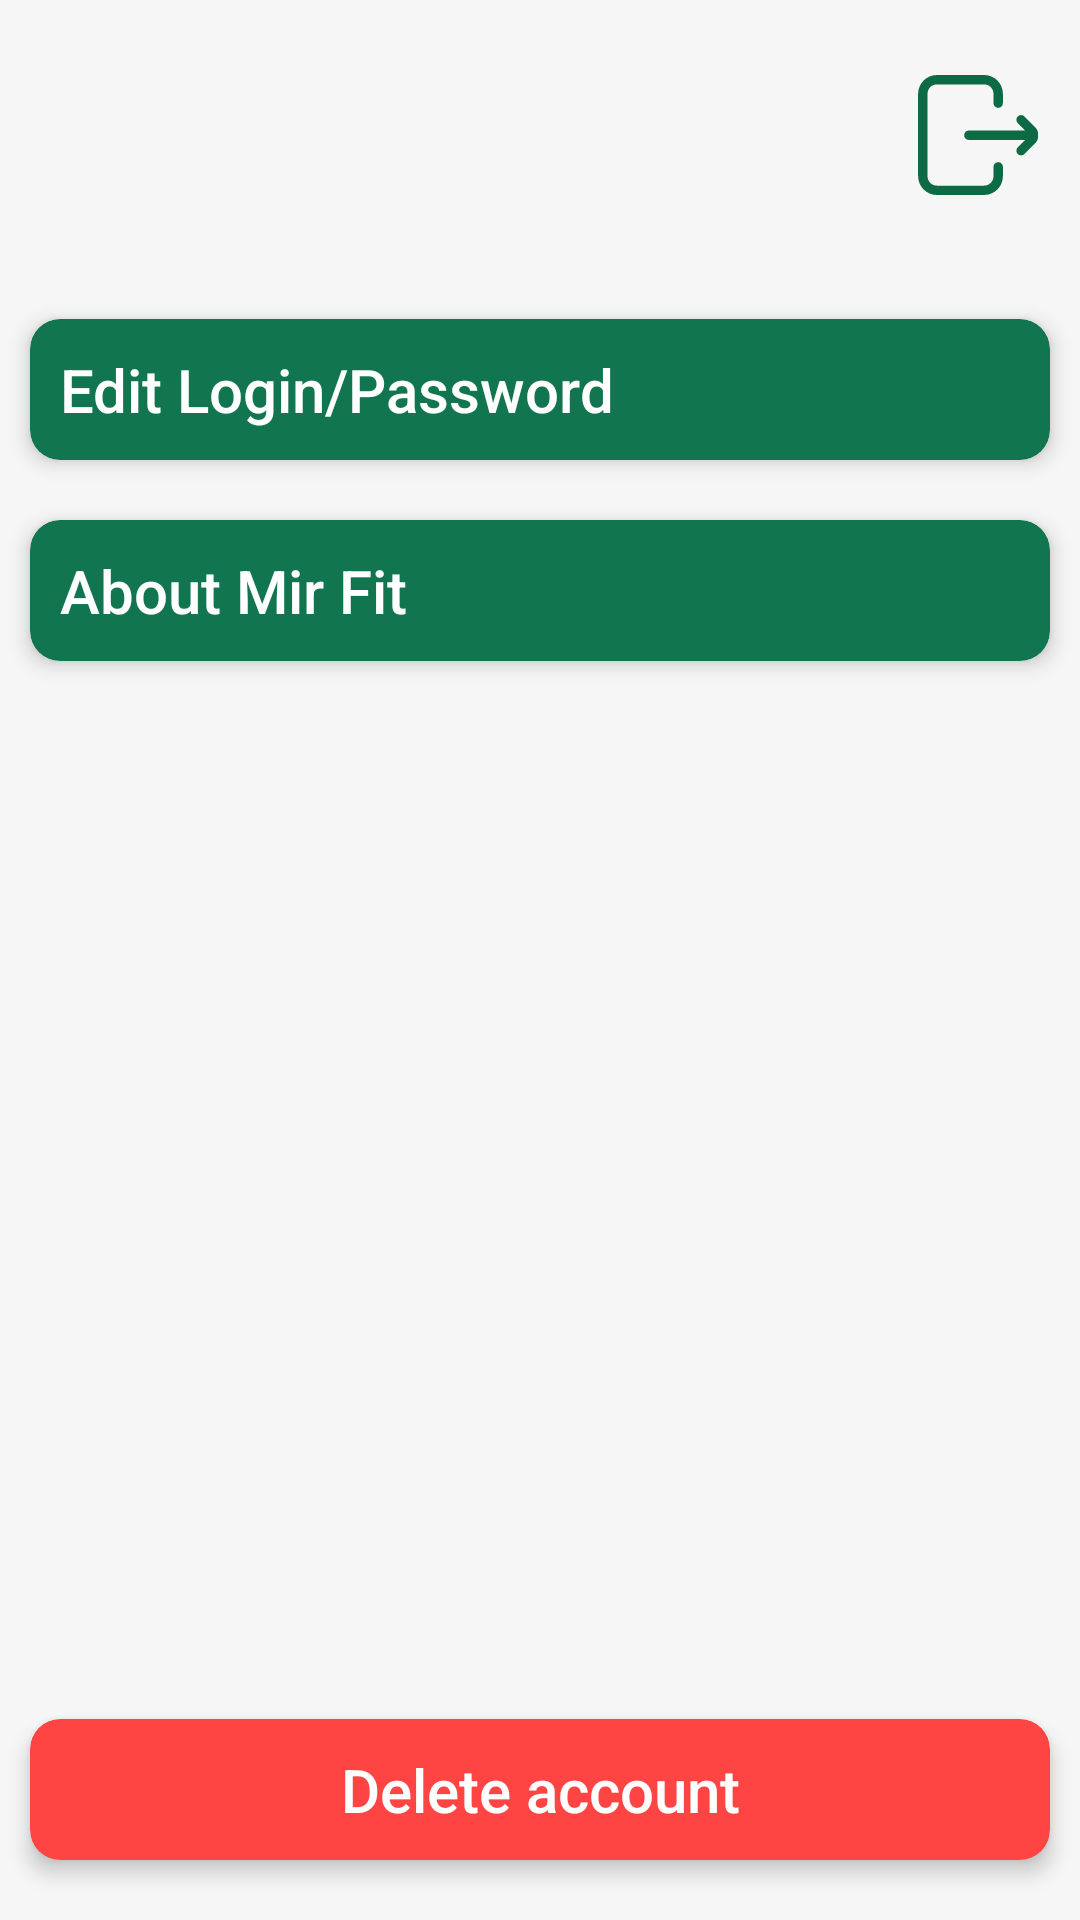

Screen size 1080×1920. Icon name, then its center in pixels as point (x, y):
exit: point (978, 135)
